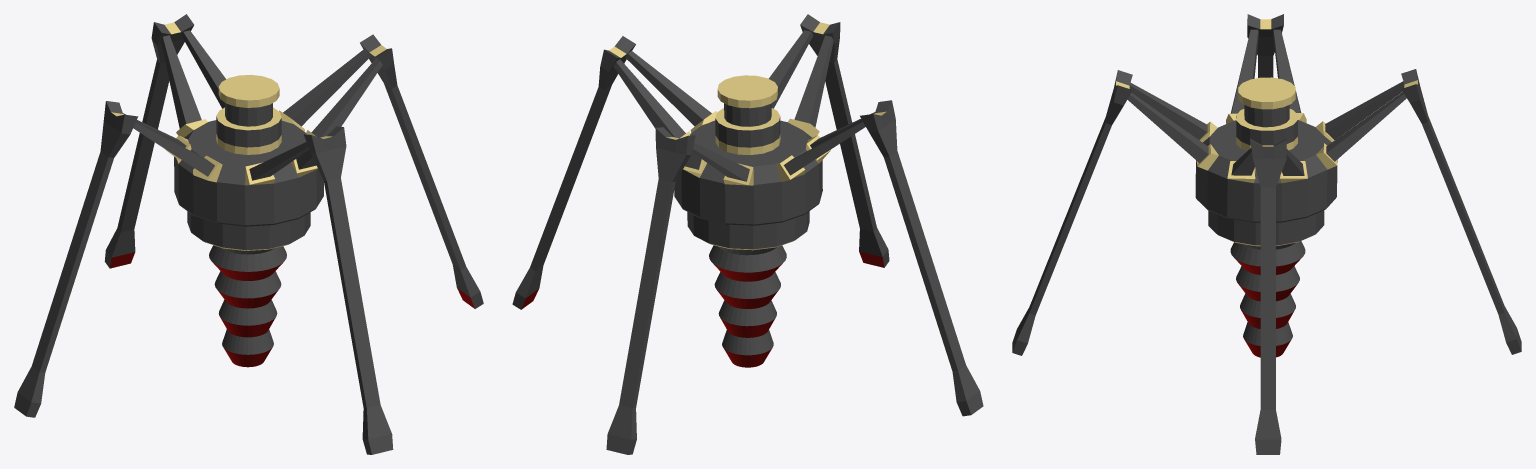
Rendered from Kazıcı.fbx.
3 views of the same model, side by side, from view 1: azimuth 30°, elevation 25°; view 2: azimuth 150°, elevation 25°; view 3: azimuth 270°, elevation 25° (orthographic). The views are drawn at different scales.
Parts seen in each view (by area): view 1: Cube.001; view 2: Cube.001; view 3: Cube.001.
Boxes of the visible parts, x1,y1,x2,y2 form: Cube.001: [14, 14, 483, 454]; Cube.001: [512, 14, 983, 454]; Cube.001: [1012, 14, 1521, 454].
Bounding box in the file's own units: 316 × 188 × 316.
